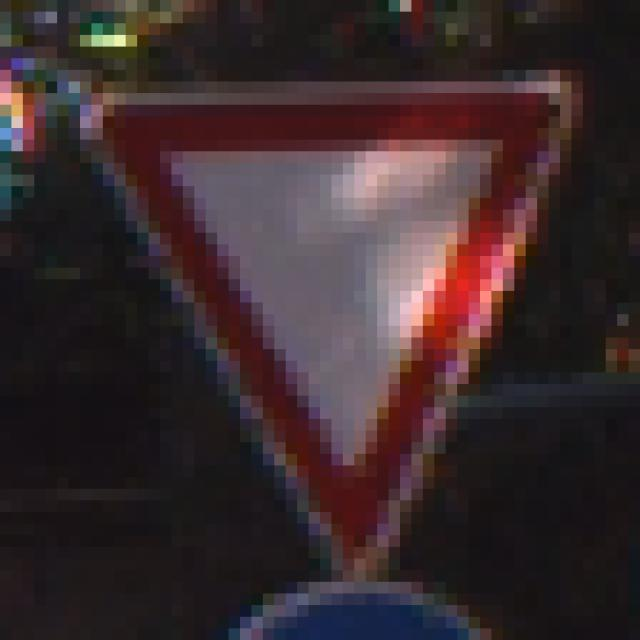Give Way: (69, 59, 584, 583)
